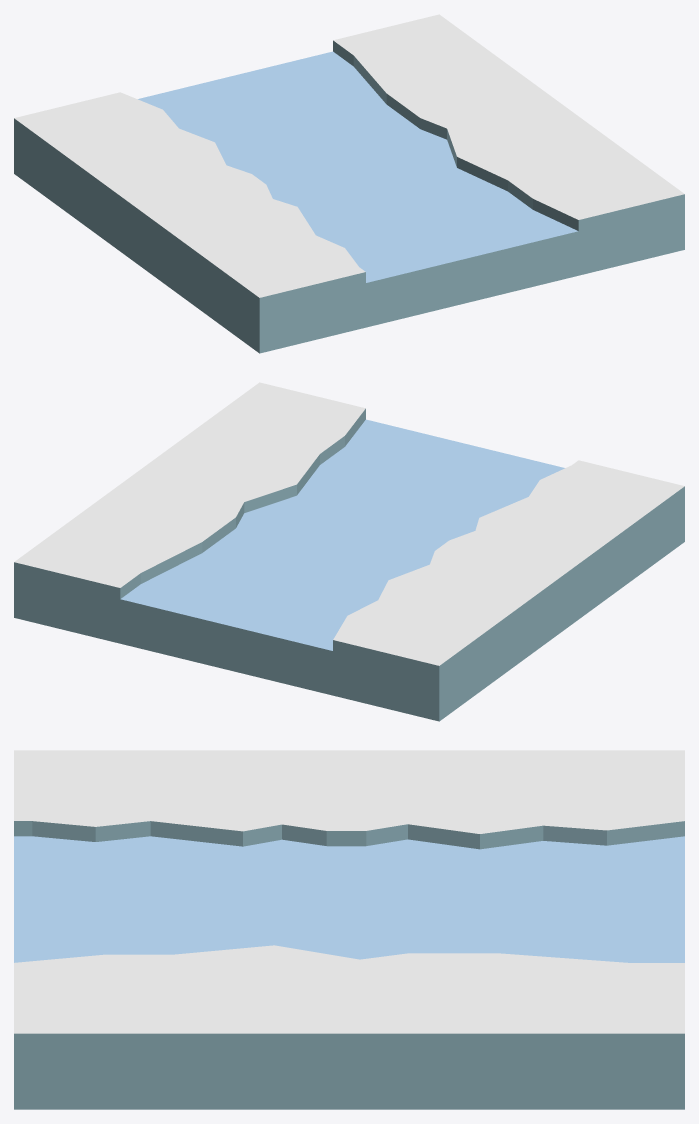
File: Terrain_Tile_Ice_Snow_River_03.fbx
The picture shows the model from 3 angles, top to bottom: view 1: azimuth 30°, elevation 25°; view 2: azimuth 150°, elevation 25°; view 3: azimuth 270°, elevation 25°; orthographic projection. The views are drawn at different scales.
Parts seen in each view (by area): view 1: Terrain_Tile_Ice_Snow_River_03; view 2: Terrain_Tile_Ice_Snow_River_03; view 3: Terrain_Tile_Ice_Snow_River_03.
Boxes of the visible parts, x1=… form: Terrain_Tile_Ice_Snow_River_03: x1=14, y1=14, x2=684, y2=353; Terrain_Tile_Ice_Snow_River_03: x1=14, y1=382, x2=684, y2=721; Terrain_Tile_Ice_Snow_River_03: x1=14, y1=750, x2=684, y2=1109.
Size of the model in its own units: 126 by 15.75 by 126.
